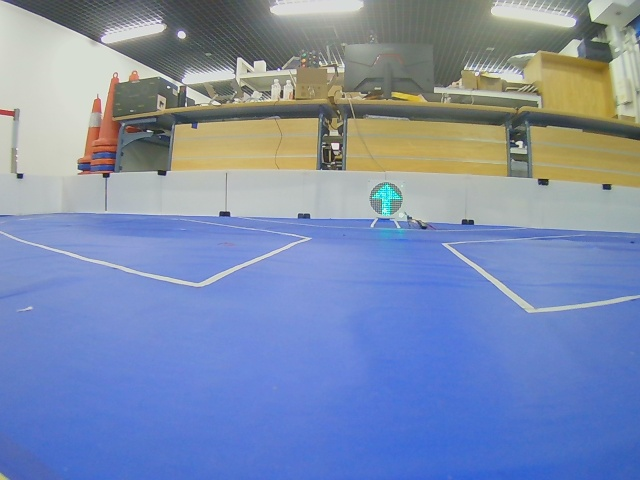straight_green: (369, 182, 403, 217)
